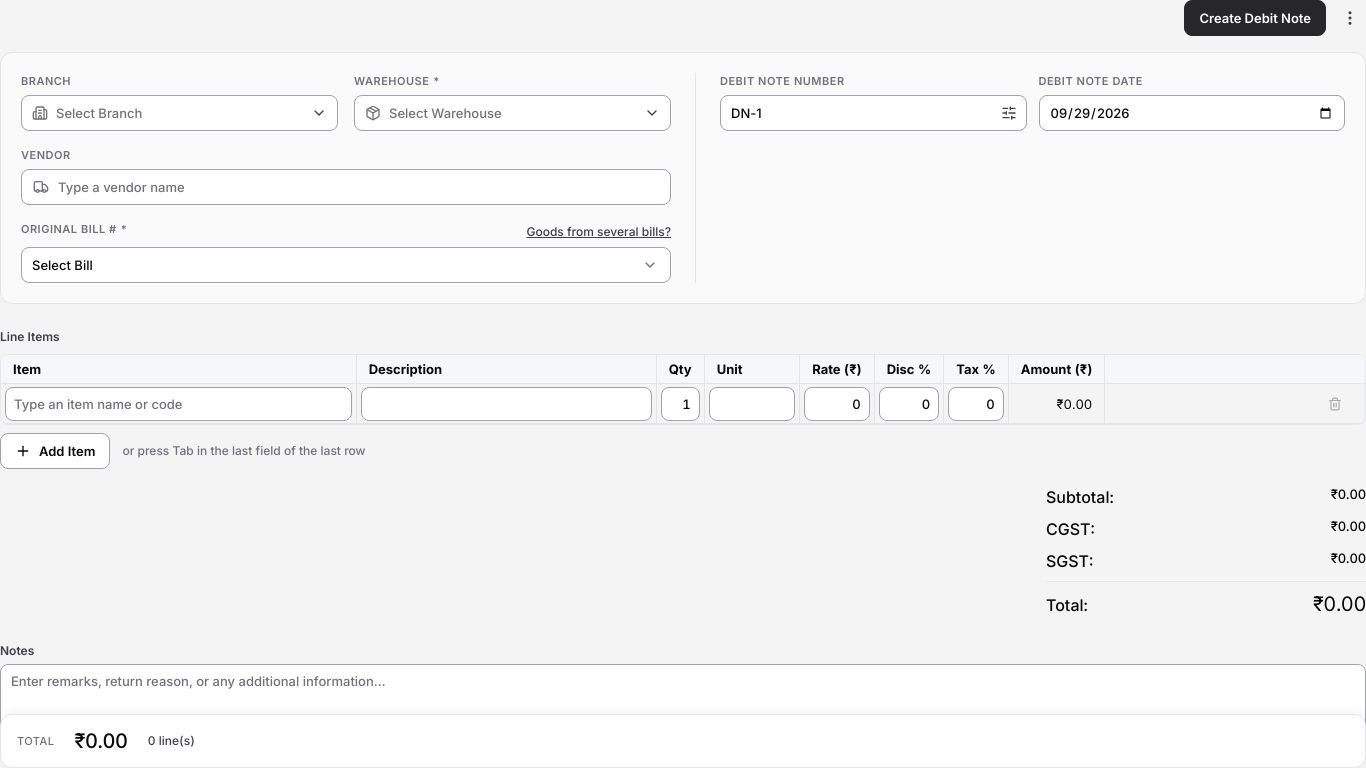
Test case: the purchase return asks what the bill asks › narrows the warehouses to that branch
Click the dropdown labelled "Branch": coordinates (99, 113) [21,95,338,131]
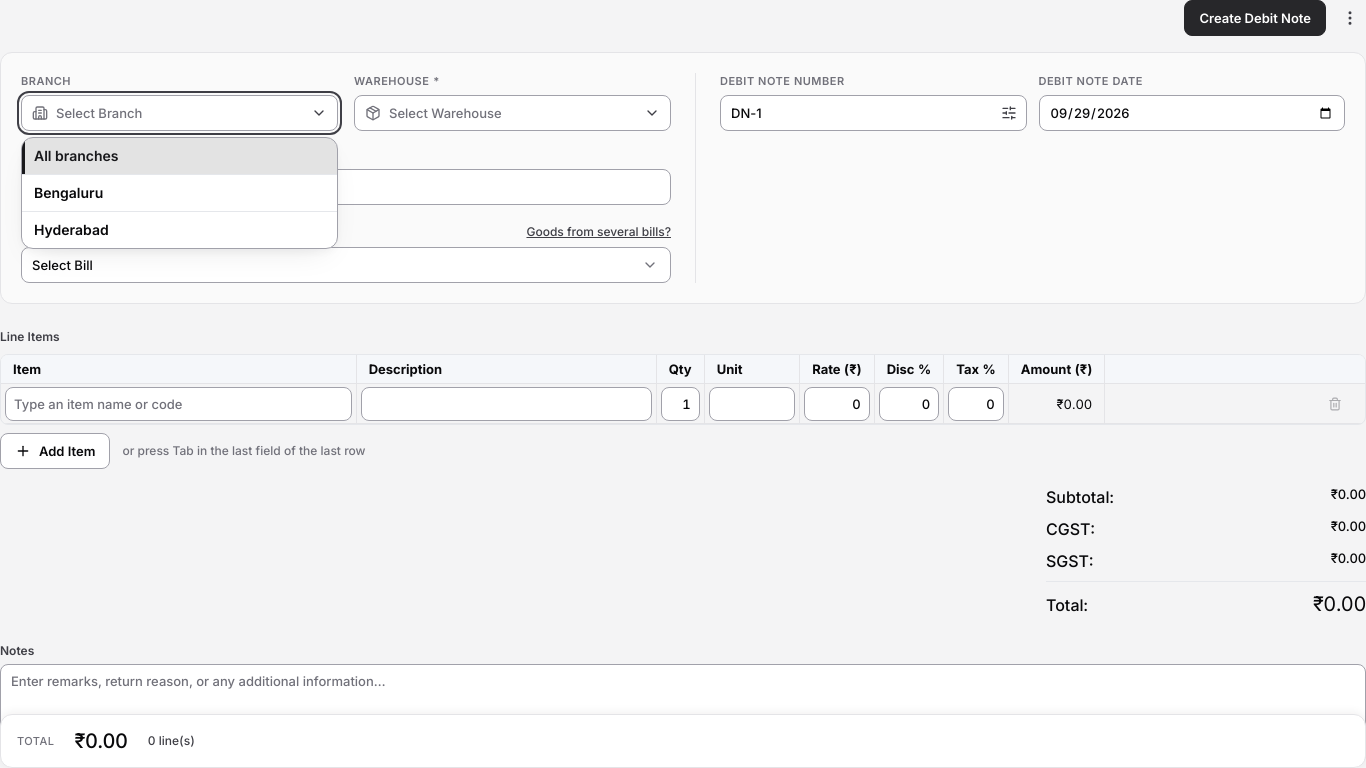
Click the option "Bengaluru": coordinates (69, 192) [22,174,337,211]
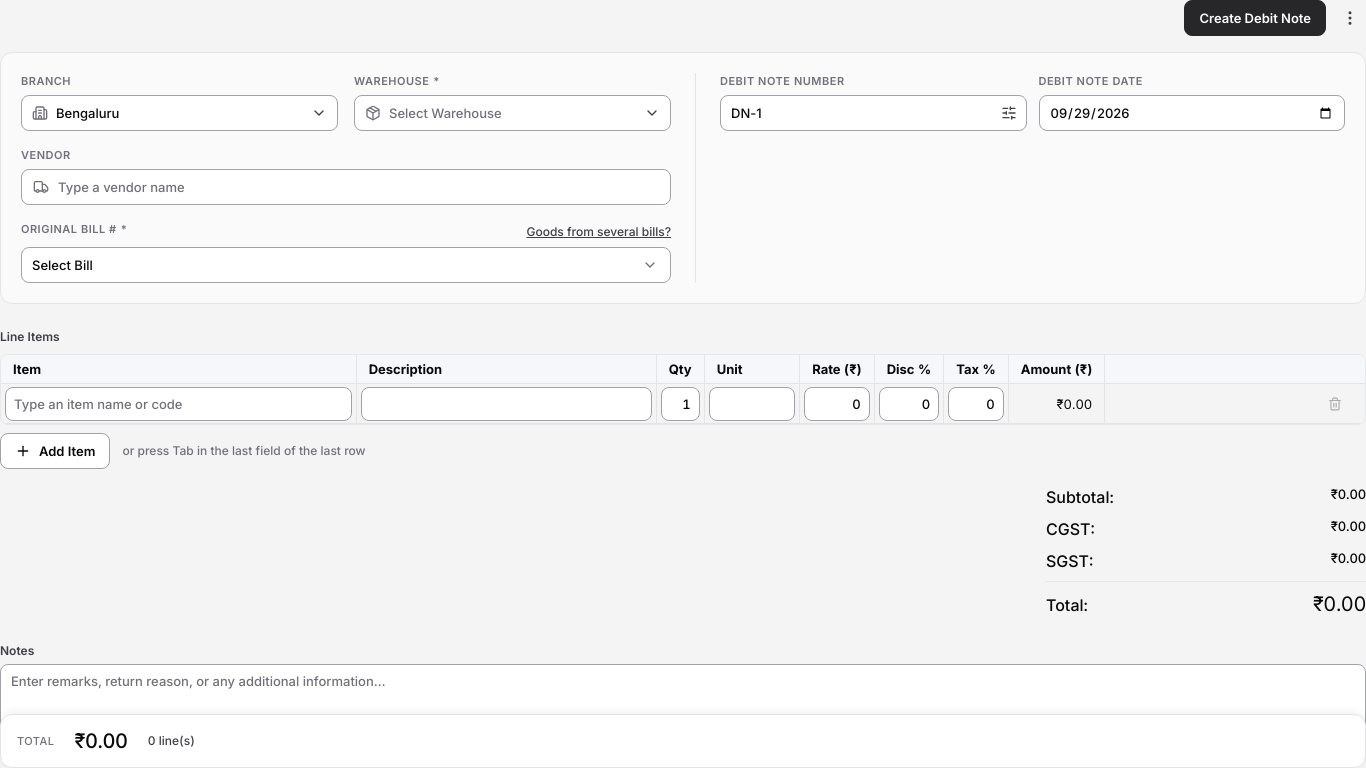
Click the dropdown named "Warehouse *": coordinates (445, 113) [354,95,671,131]
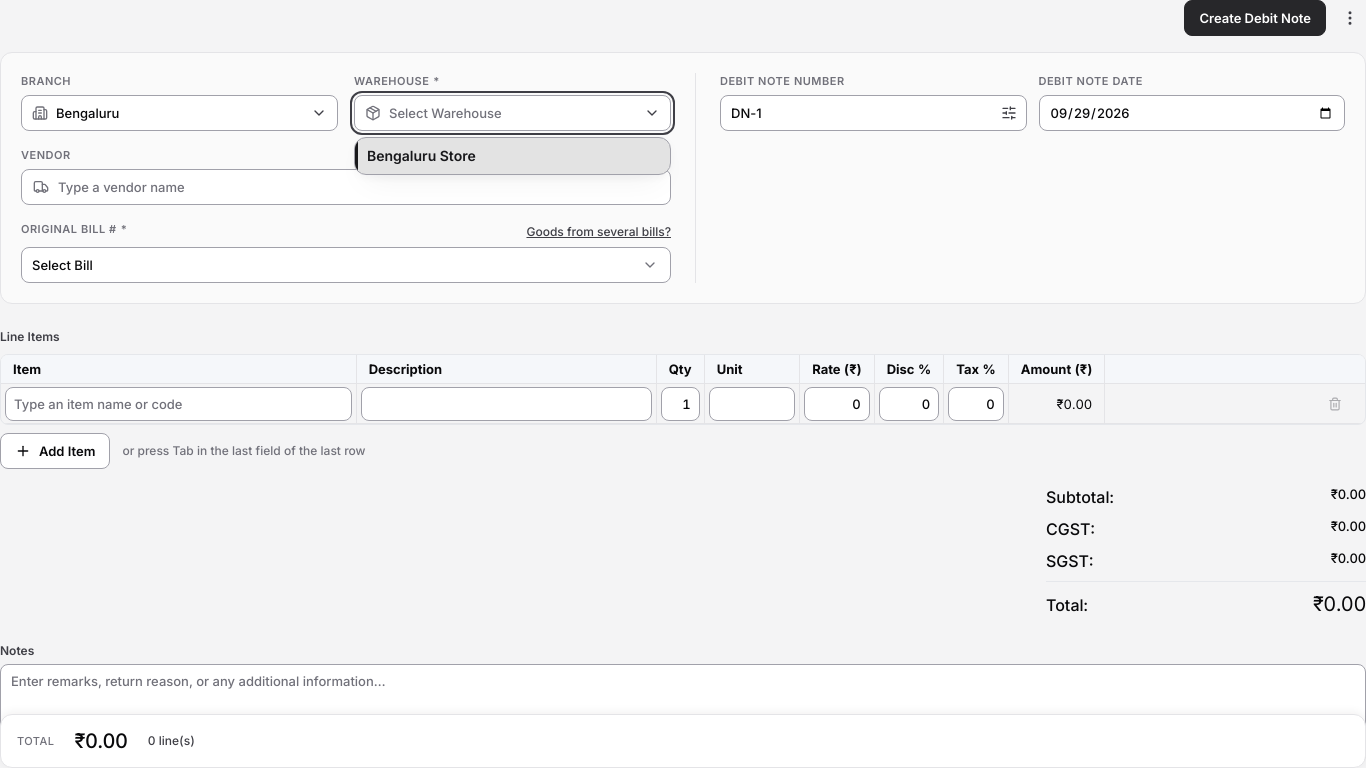
Check: the options read "Bengaluru Store", in this order, box [355,138,670,174]
